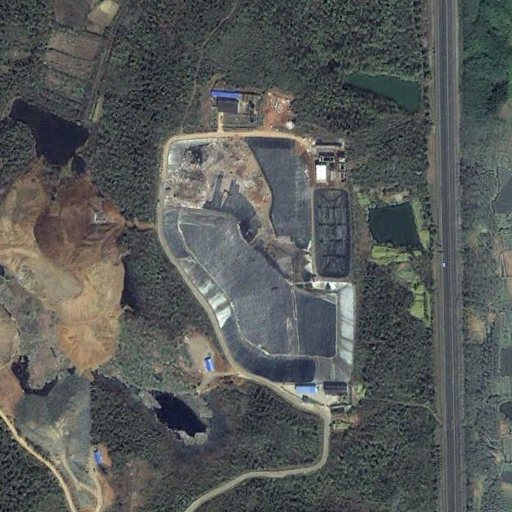lf: (158, 134, 352, 382)
